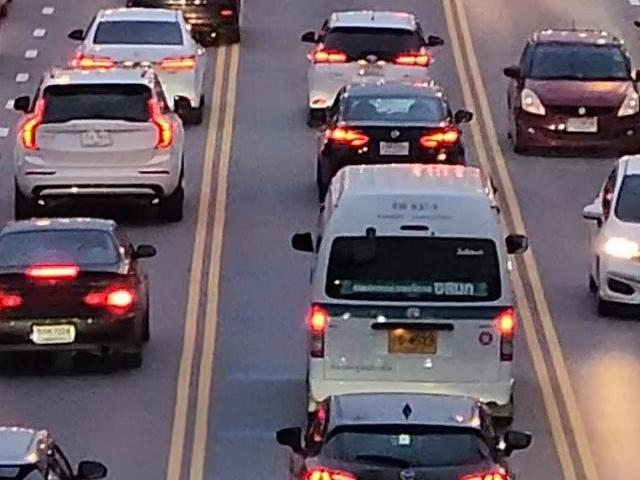car: (0, 71, 193, 214), (0, 225, 163, 378), (276, 395, 539, 480), (506, 18, 640, 158), (65, 6, 213, 120), (296, 70, 428, 194), (305, 5, 428, 128), (570, 151, 640, 321), (120, 0, 245, 29)
van: (300, 162, 537, 418)
